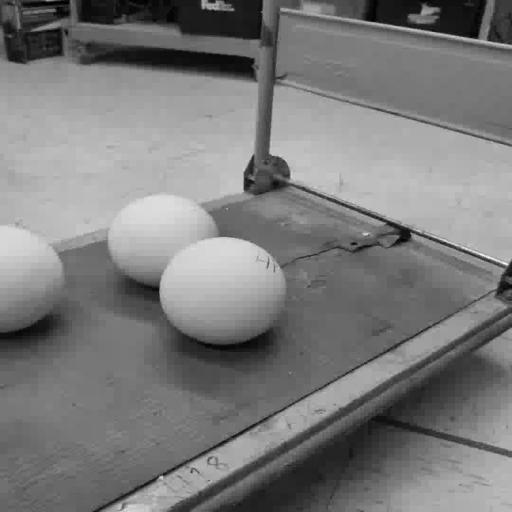fuel: (160, 237, 286, 345), (108, 194, 218, 287), (0, 225, 64, 333)
